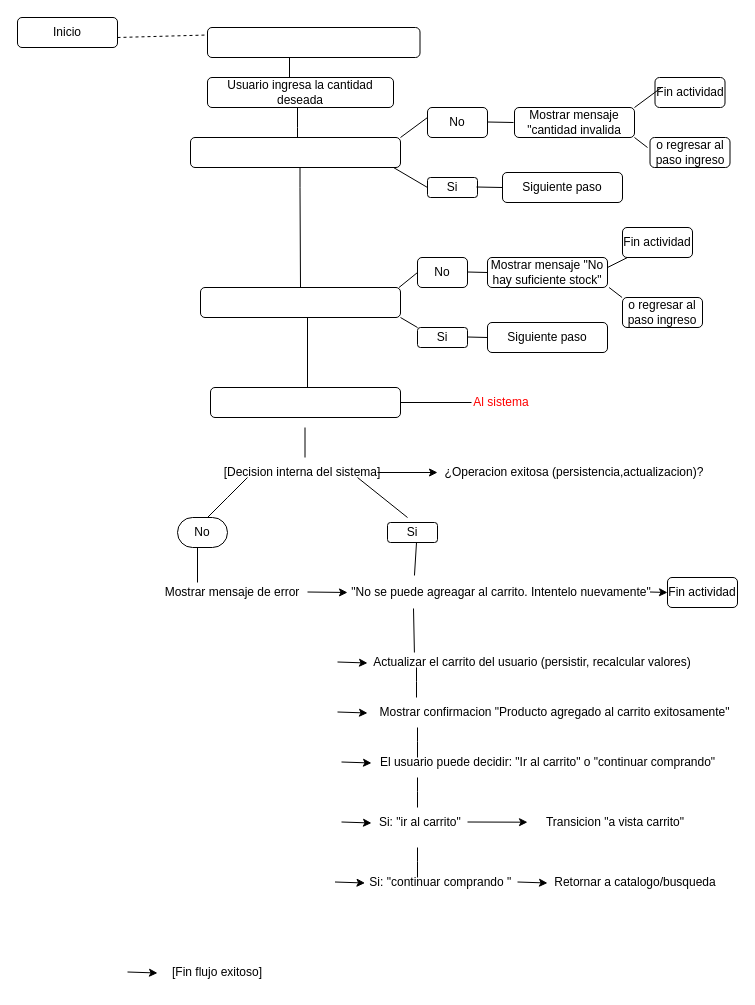
Some shapes in this 755 by 1005 pixel diagram are drawn without their labels. Each missing label, with the centre of its shape:
[Decision: cantidad es valida (número entero ≥1): [295,152]
[Decision: Cantidad solicitada ≤ stock disponible?: [300,302]
Enviar peticion "agregar al carrito"(Producto ID, cantidad): [305,402]
Usuario abre página de detalle de producto: [313,42]
